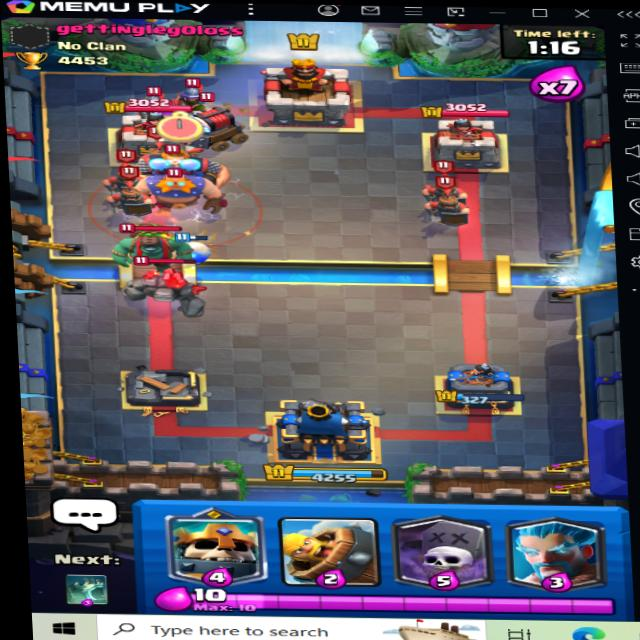Egiant: (123, 152, 229, 216)
Goblingiant: (111, 218, 205, 272)
Golem: (124, 255, 214, 310)
Musketeer: (133, 84, 172, 122), (173, 77, 212, 115)
Royalgiant: (133, 147, 236, 190)
Royalrecruits: (415, 154, 478, 210), (95, 142, 151, 198), (111, 168, 154, 218), (423, 178, 466, 227)
Sparky: (172, 94, 245, 152)
